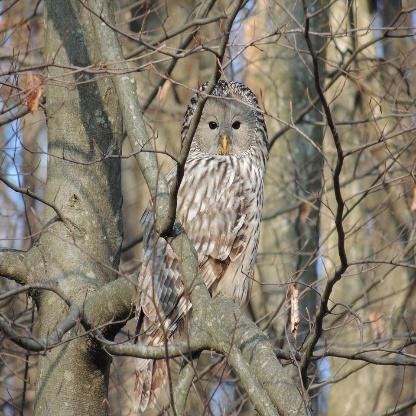Owl: (146, 79, 269, 327)
